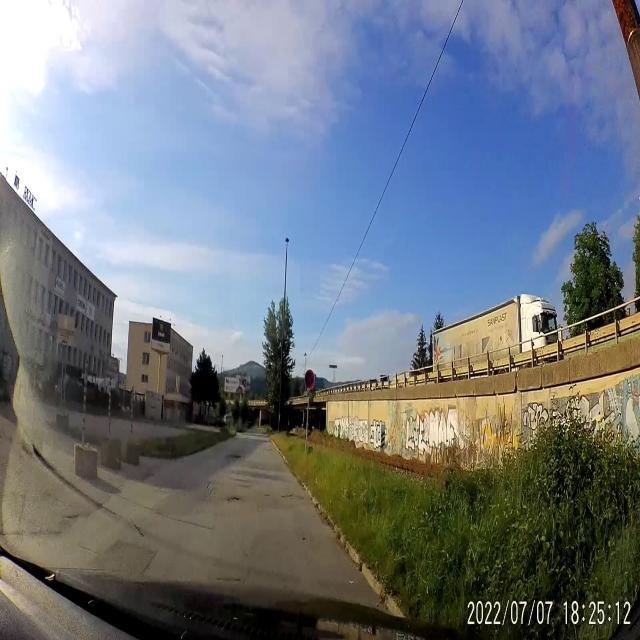Pothole: (215, 573, 244, 586), (225, 493, 243, 507), (204, 478, 216, 498), (280, 490, 296, 501), (226, 452, 242, 462), (262, 490, 272, 500), (300, 534, 308, 544)
